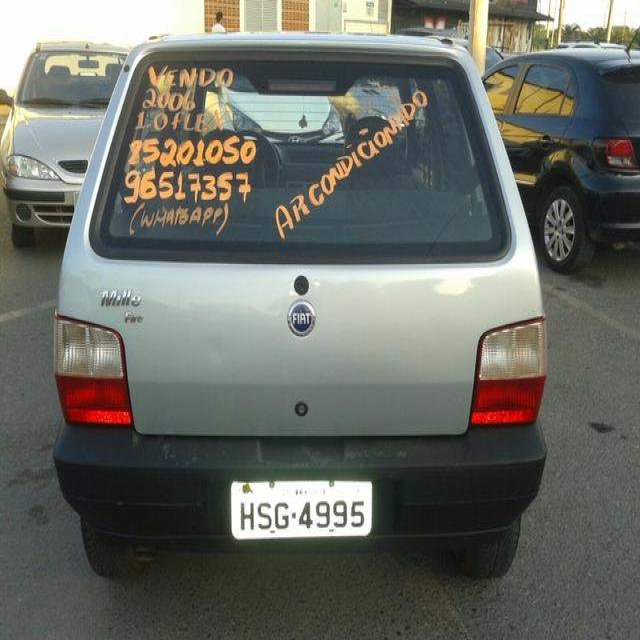Placa: (228, 476, 375, 543)
